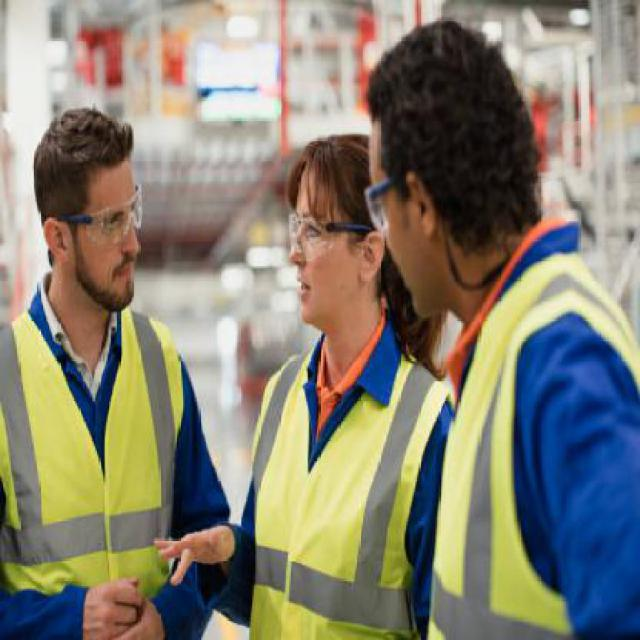glass: (70, 183, 149, 250), (281, 207, 353, 263)
head: (355, 11, 544, 254), (24, 98, 149, 250), (278, 132, 375, 315)
person: (354, 12, 640, 630), (14, 98, 237, 635), (212, 120, 432, 623)
vest: (418, 250, 639, 638), (235, 340, 453, 637), (4, 302, 193, 598)
